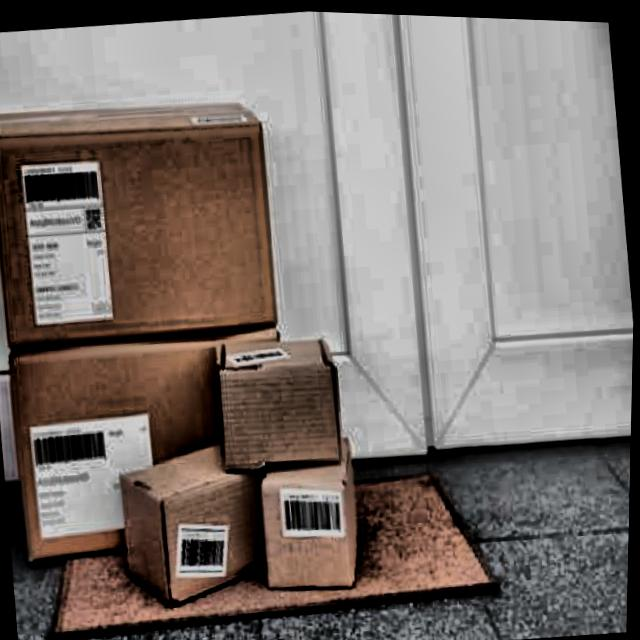Cardbox: (0, 303, 388, 626), (0, 86, 288, 359), (0, 91, 123, 370)
